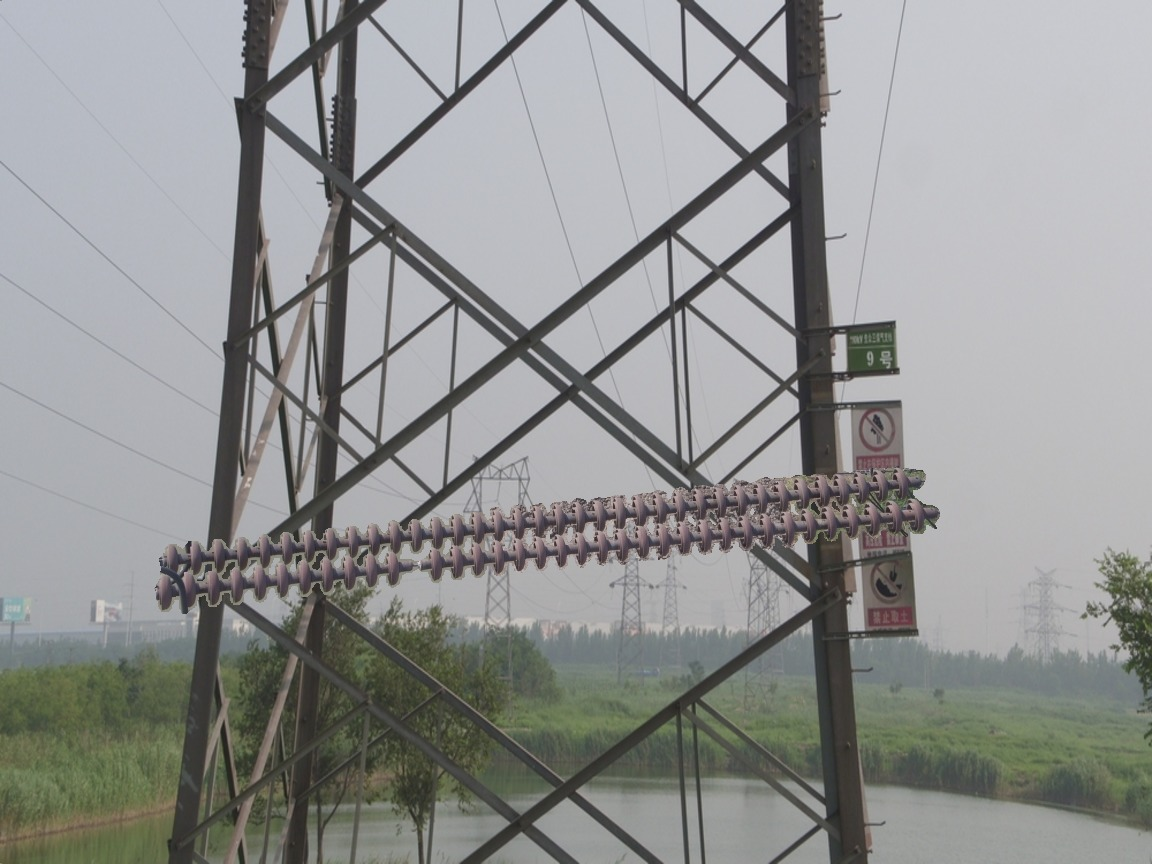defect: (380, 545, 452, 586)
